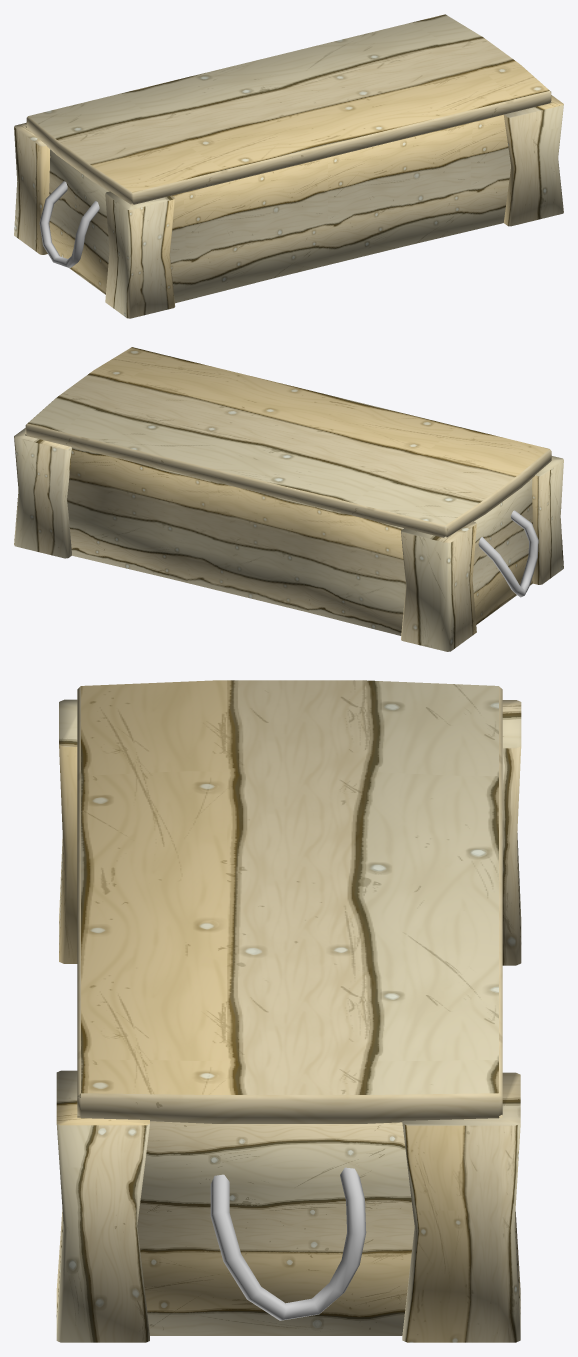
File: Chest.fbx
3 views of the same model, one above another, from view 1: azimuth 30°, elevation 25°; view 2: azimuth 150°, elevation 25°; view 3: azimuth 270°, elevation 25° (orthographic). The views are drawn at different scales.
Visible parts, largest first — view 1: Box, Lid; view 2: Box, Lid; view 3: Lid, Box.
Boxes of the visible parts, x1=… form: Box: x1=14, y1=95, x2=563, y2=318; Lid: x1=26, y1=14, x2=551, y2=204; Box: x1=14, y1=428, x2=563, y2=651; Lid: x1=25, y1=347, x2=551, y2=537; Lid: x1=77, y1=680, x2=502, y2=1123; Box: x1=56, y1=699, x2=521, y2=1342.
Bounding box in the file's own units: 4.5 × 1.11 × 1.91.
